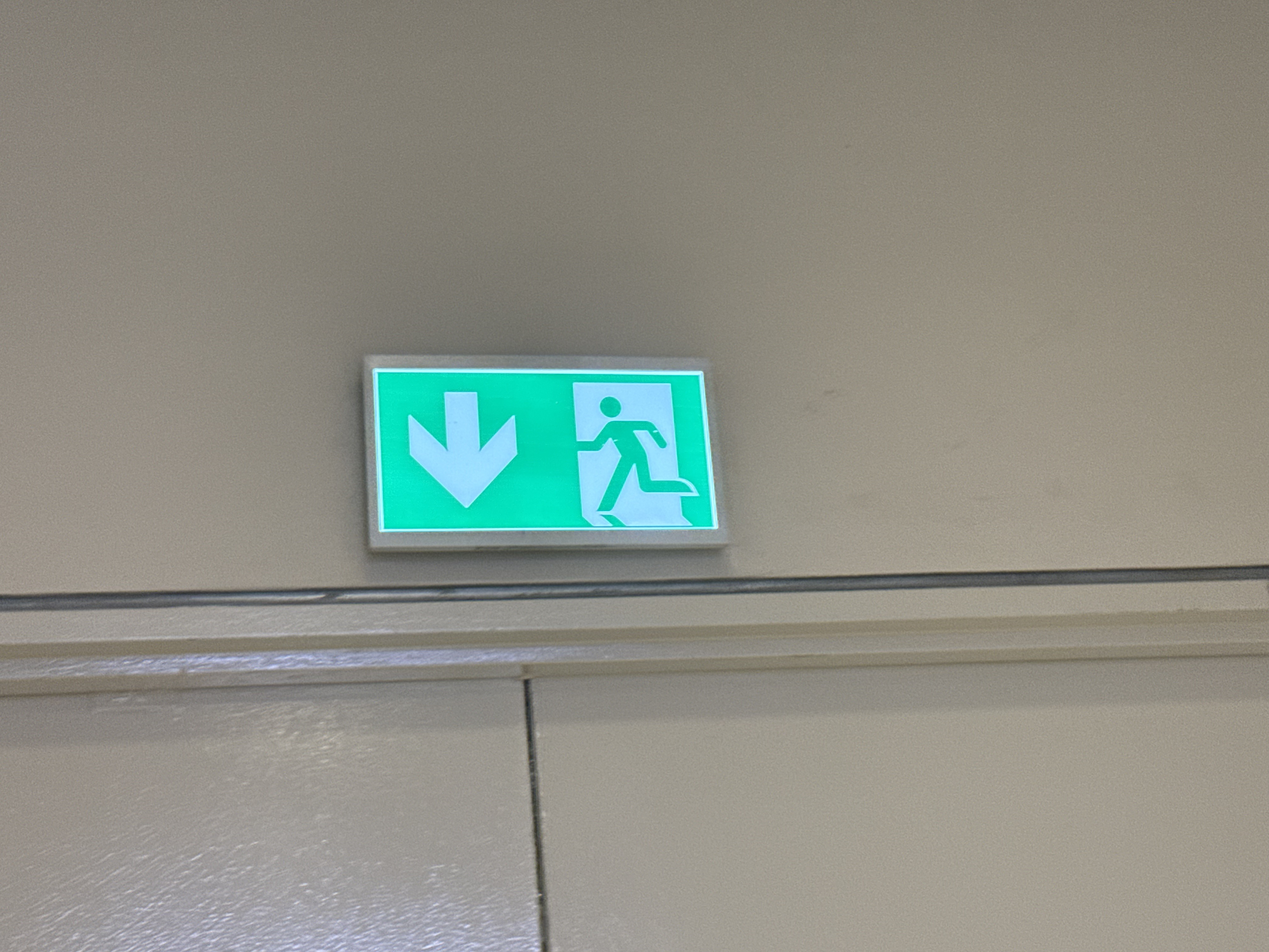emergency_exit: (362, 353, 730, 553)
